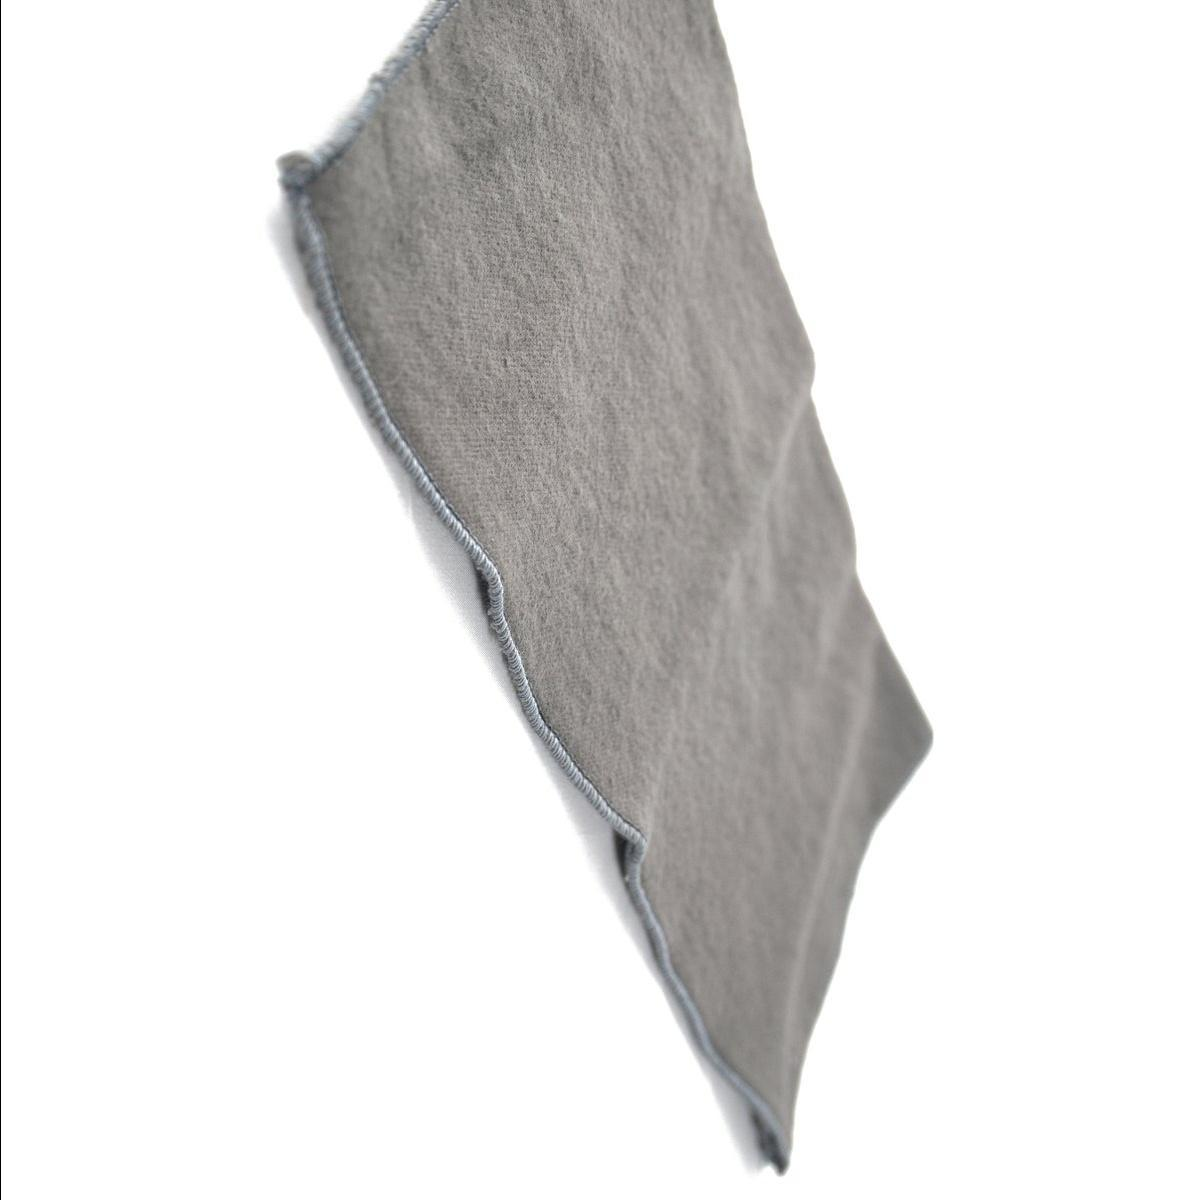towel: (265, 0, 973, 1195)
